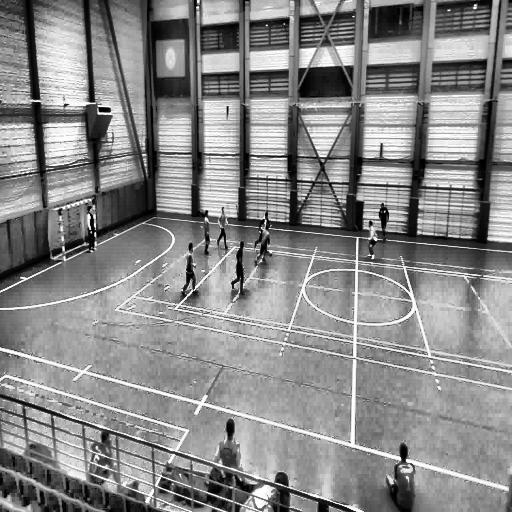ball: (269, 249, 274, 260)
player: (86, 427, 128, 496), (384, 441, 416, 512), (212, 417, 245, 476), (181, 241, 199, 298), (231, 238, 245, 294), (254, 210, 271, 256), (254, 227, 271, 270), (217, 208, 229, 248), (86, 207, 96, 252), (202, 208, 211, 256), (367, 220, 377, 262), (379, 202, 389, 242)
